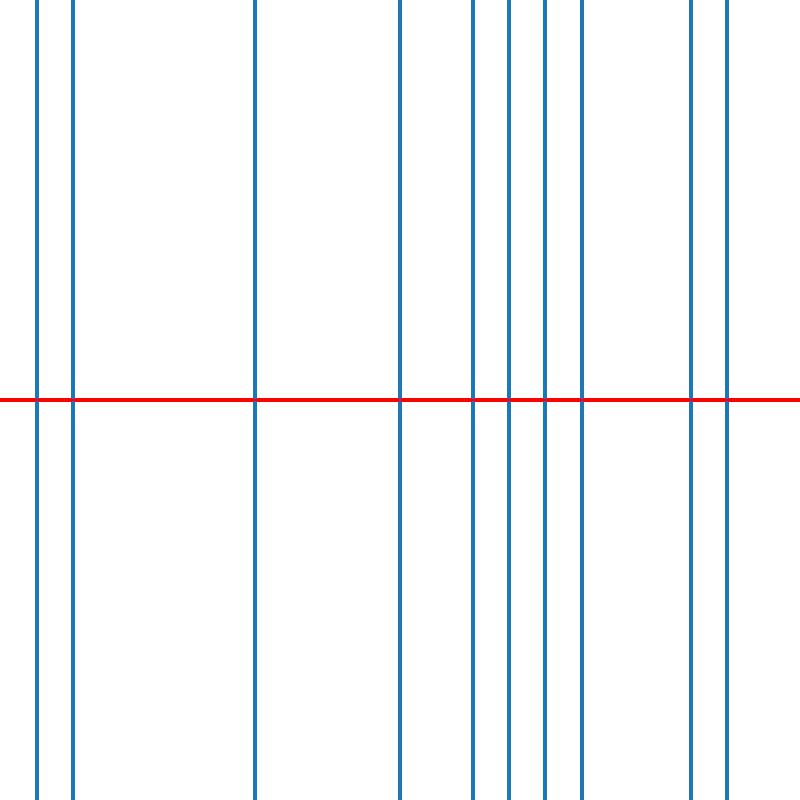root: (541, 396, 549, 404), (250, 396, 258, 404), (32, 396, 40, 404), (396, 396, 403, 404), (687, 396, 694, 404), (505, 396, 512, 404), (69, 396, 76, 404), (469, 396, 476, 404), (723, 396, 730, 404), (578, 396, 585, 404)
